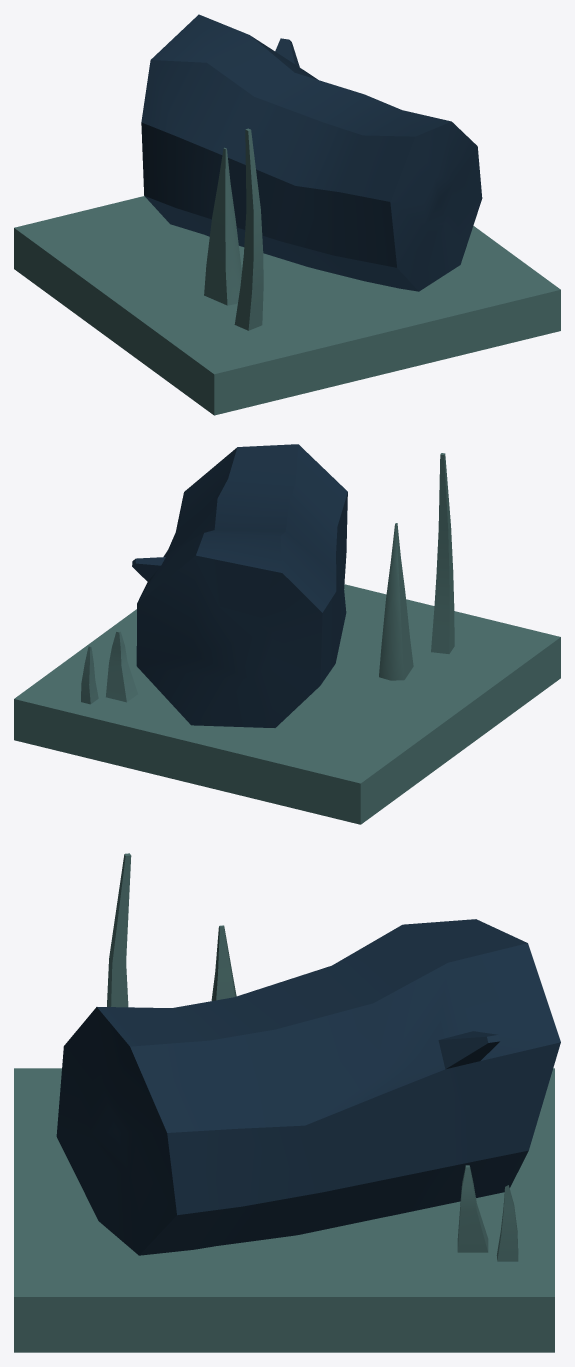
File: ASSET_ENV_tronc.fbx
3 views of the same model, one above another, from view 1: azimuth 30°, elevation 25°; view 2: azimuth 150°, elevation 25°; view 3: azimuth 270°, elevation 25° (orthographic). The views are drawn at different scales.
Visible parts, largest first — view 1: TRONC; view 2: TRONC; view 3: TRONC.
Boxes of the visible parts, x1=… form: TRONC: x1=14, y1=14, x2=560, y2=415; TRONC: x1=14, y1=444, x2=560, y2=824; TRONC: x1=14, y1=853, x2=560, y2=1352.
Size of the model in its own units: 1 by 0.6518 by 1.01.
